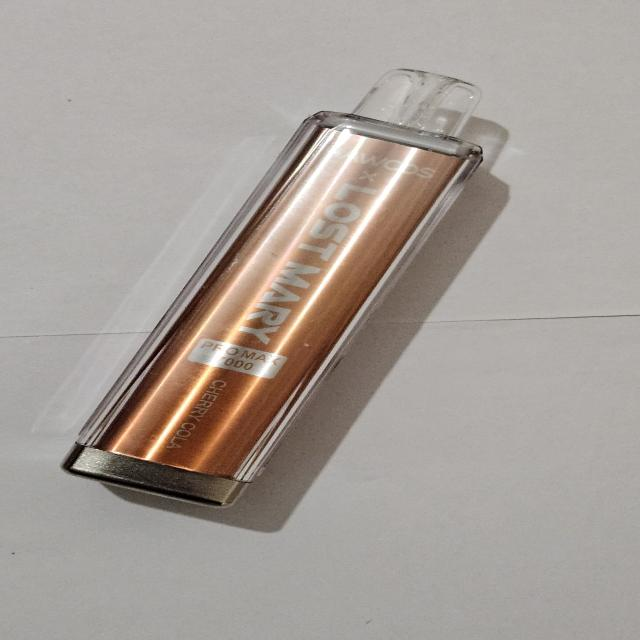Hazard: (59, 67, 486, 509)
